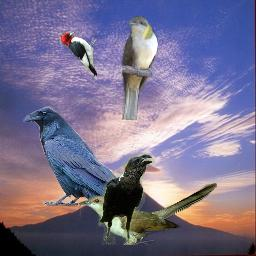Crow: (22, 106, 139, 233), (98, 152, 155, 245)
Cuckoo: (79, 182, 217, 245), (120, 16, 158, 120)
Woodpecker: (61, 31, 97, 79)
